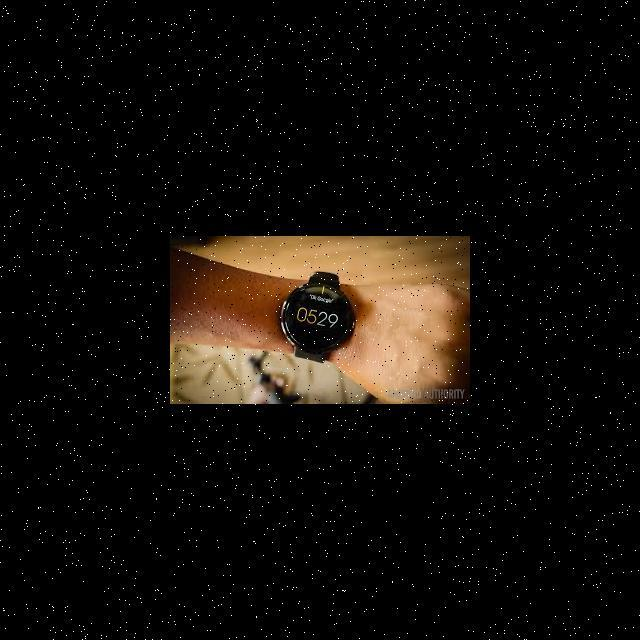watch: (245, 248, 358, 375)
